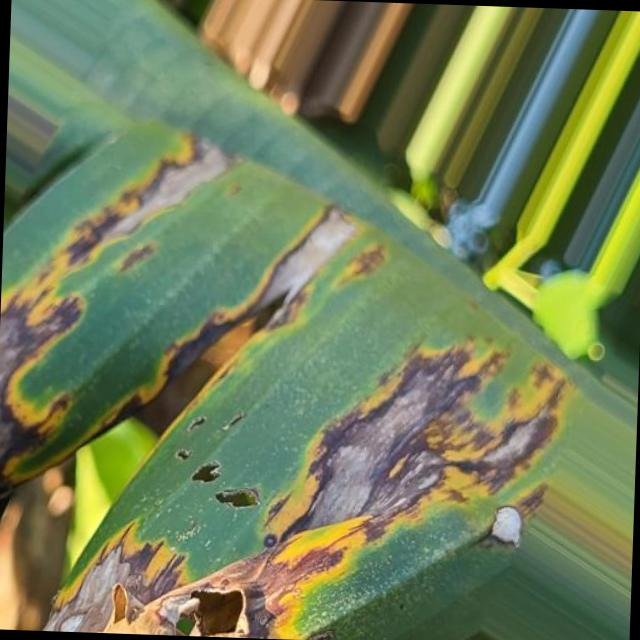Banana_Black_Sigatoka: (13, 341, 588, 640), (0, 141, 322, 467)
